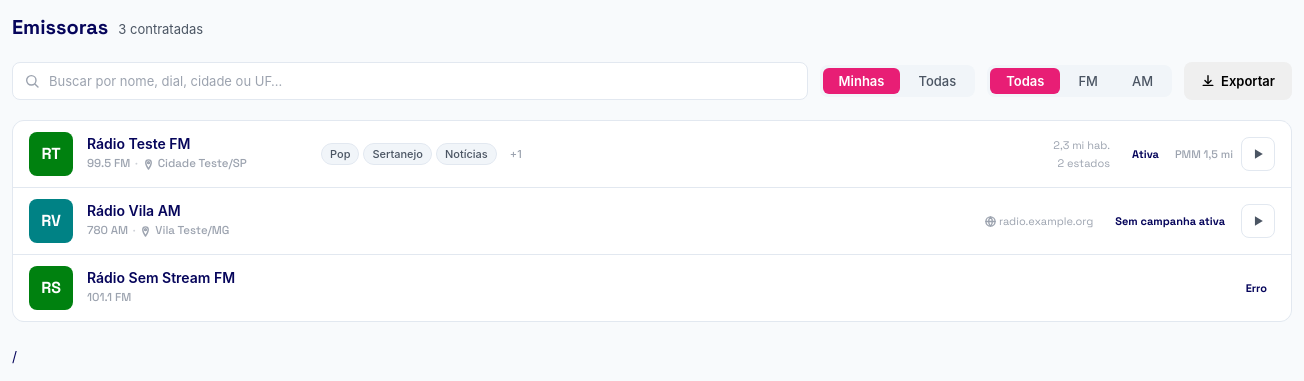
Scenario: StationsPage › exportar sem resultado avisa que não há nada pra exportar
Expected: the text "Rádio Teste FM" is shown, [87,135,190,152]
What coordinates should you click on to do the following:
click the button "Exportar"
I would click on:
 (1238, 81)
Its box is [1184,62,1292,100].
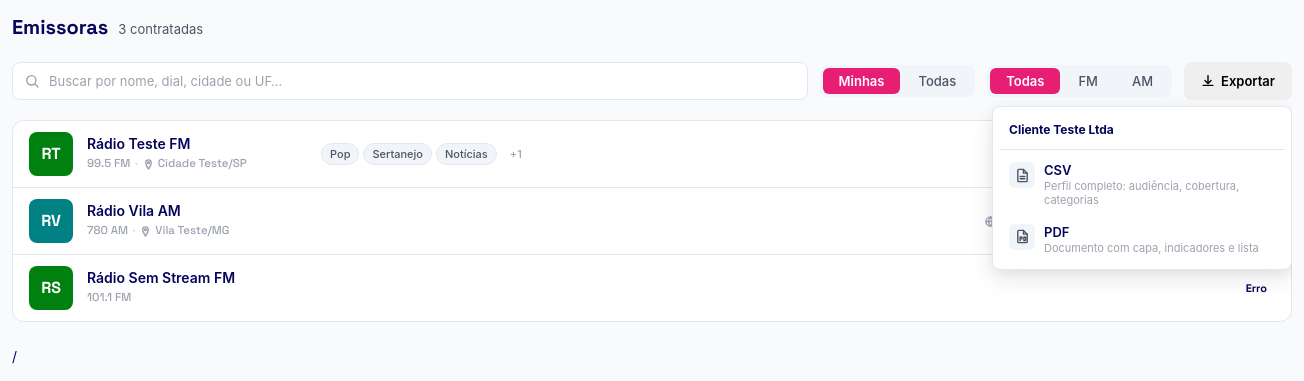
What coordinates should you click on to do the following:
click the menu item "CSV Perfil completo: audiência, cobertura, categorias"
I would click on:
 (1142, 185)
Its box is [999,154,1285,216].
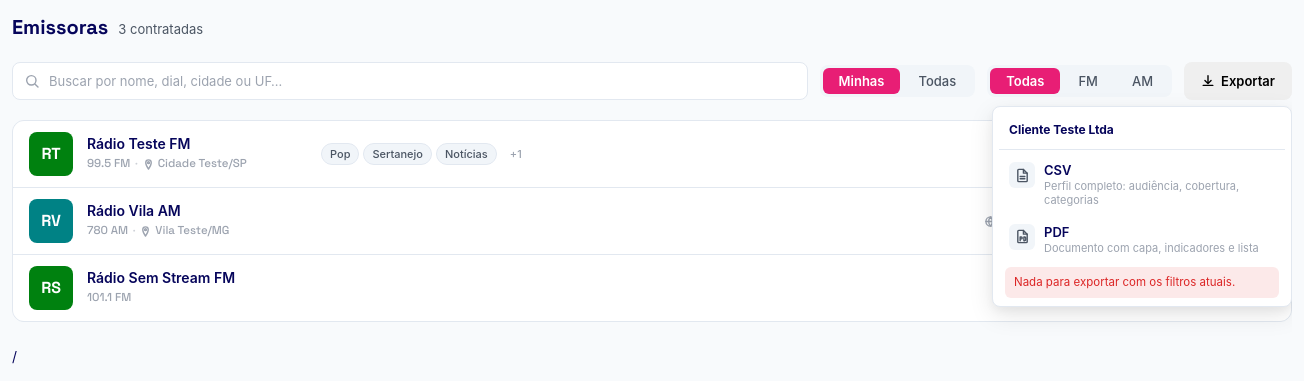
Result: the text "Nada para exportar com os filtros atuais." is shown at [1005,267,1279,298]
